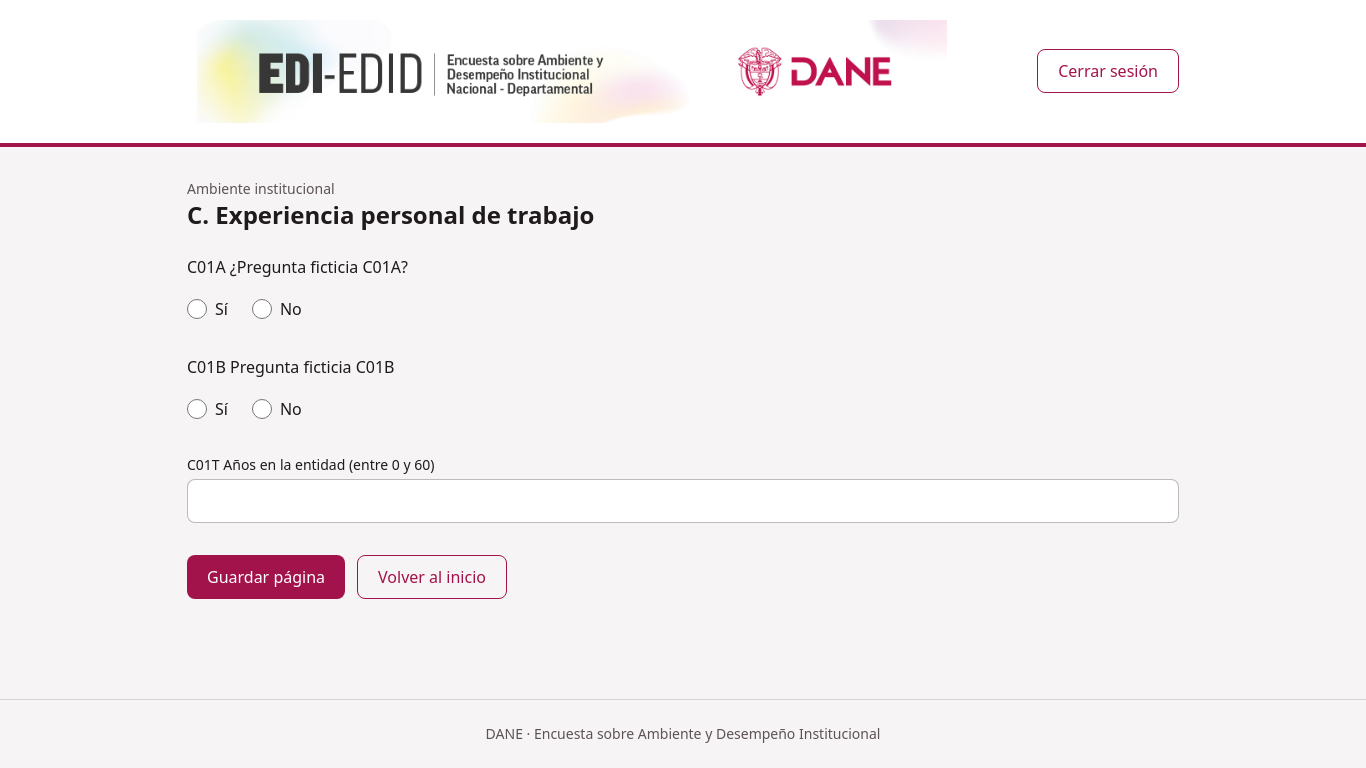
Test: SurveyPageView › aplica el salto en vivo y anuncia cuántas preguntas no aplican
Click the radio button labelled "No" below "C01A ¿Pregunta ficticia C01A?" at (262, 309), box left=252, top=299, right=272, bottom=319
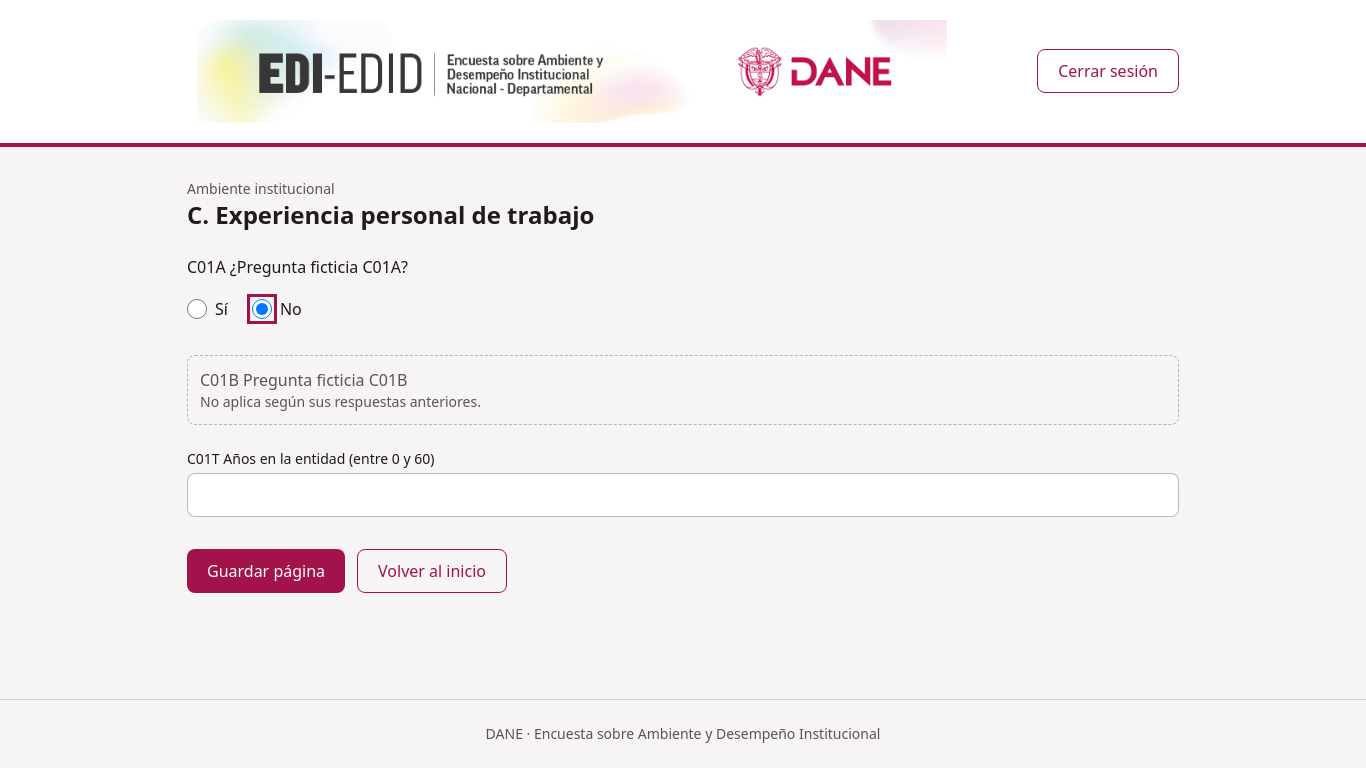
Result: the text "No aplica según sus respuestas anteriores." is shown at left=200, top=392, right=481, bottom=411
